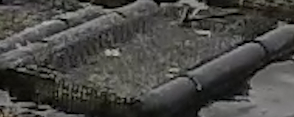bag: (1, 1, 292, 115)
